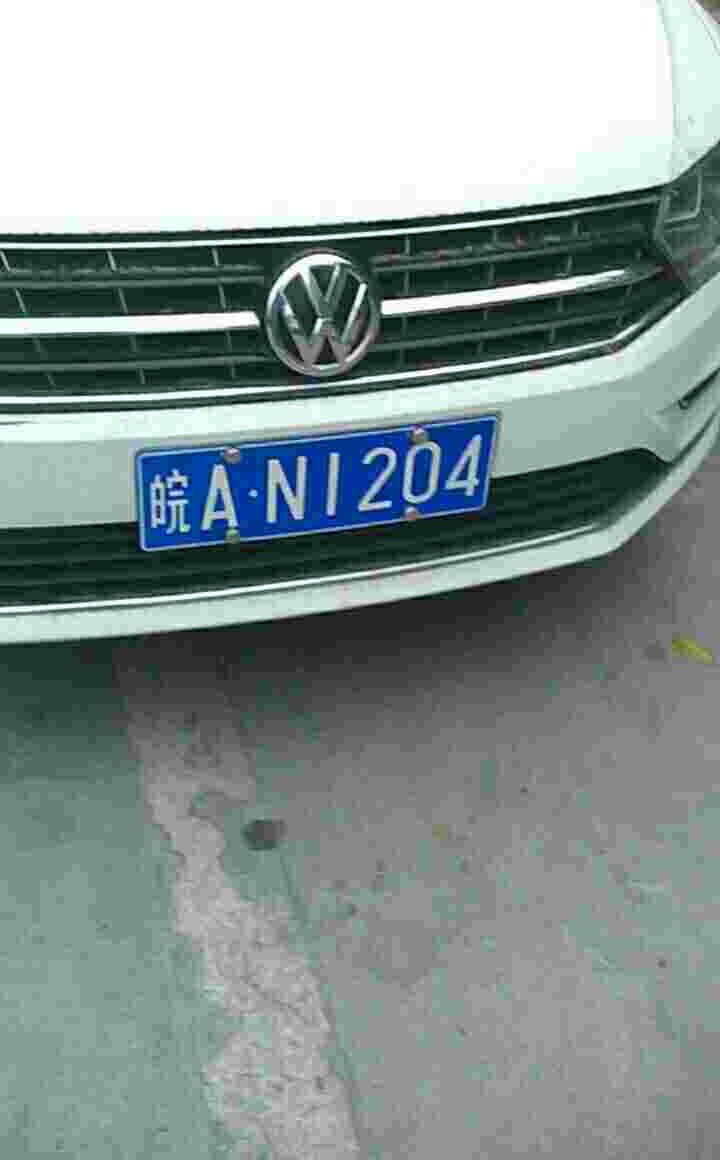license_plate: (149, 422, 495, 559)
